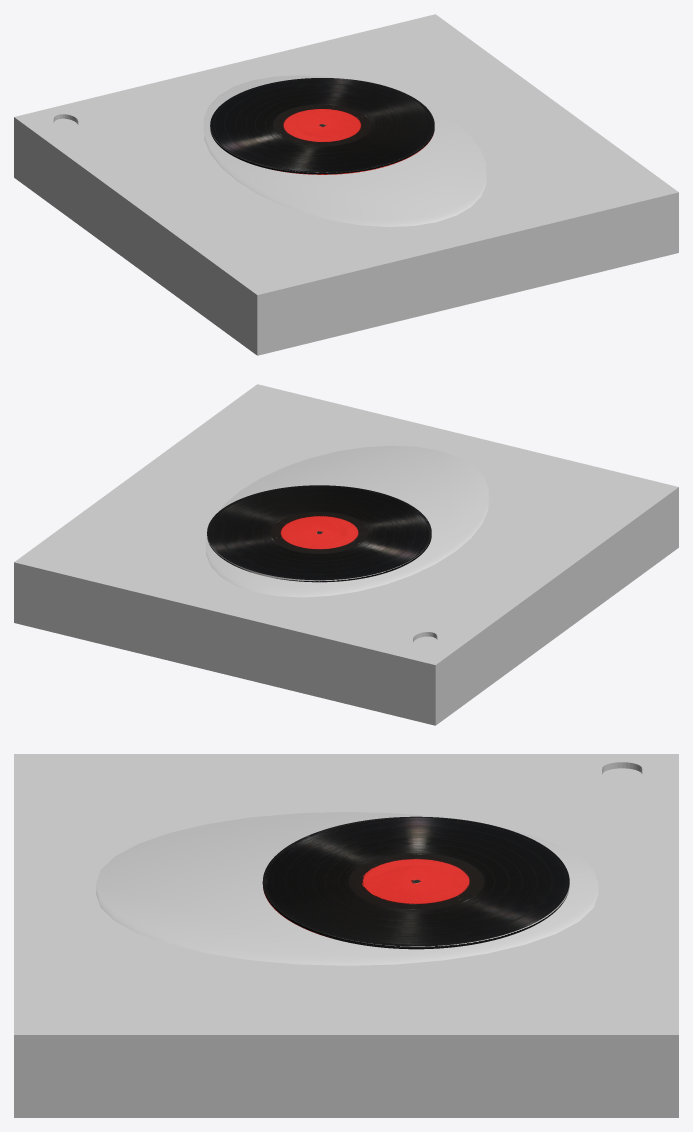
Rendered from recordPlayer.glb.
The picture shows the model from 3 angles, top to bottom: view 1: azimuth 30°, elevation 25°; view 2: azimuth 150°, elevation 25°; view 3: azimuth 270°, elevation 25°; orthographic projection. The views are drawn at different scales.
Parts seen in each view (by area): view 1: Cube.012, Cylinder.002; view 2: Cube.012, Cylinder.002; view 3: Cube.012, Cylinder.002.
Boxes of the visible parts, bbox=[...] form: Cube.012: bbox=[14, 14, 678, 355]; Cylinder.002: bbox=[210, 78, 434, 174]; Cube.012: bbox=[14, 384, 678, 725]; Cylinder.002: bbox=[207, 485, 431, 582]; Cube.012: bbox=[14, 754, 678, 1117]; Cylinder.002: bbox=[262, 816, 569, 949].
Size of the model in its own units: 0.65 by 0.1044 by 0.65.
Materials: 1 (1 with a texture image).
